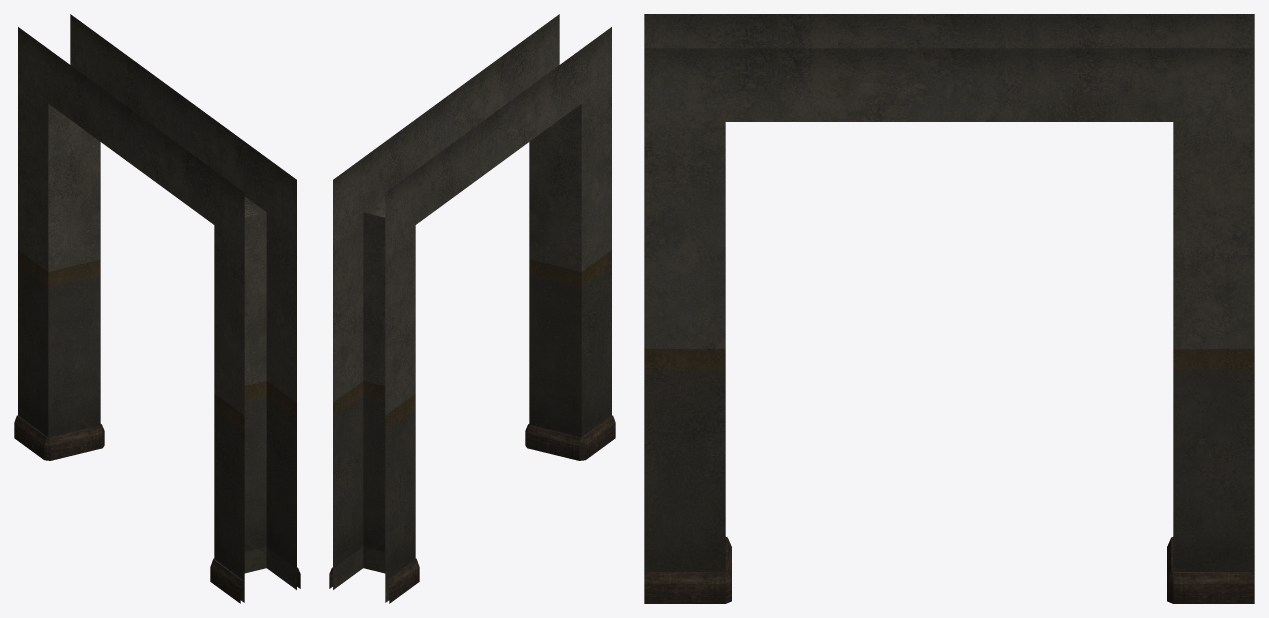
The model's file is arc_1_wall_1.obj.
3 views of the same model, side by side, from view 1: azimuth 30°, elevation 25°; view 2: azimuth 150°, elevation 25°; view 3: azimuth 270°, elevation 25° (orthographic). The views are drawn at different scales.
Parts seen in each view (by area): view 1: arc_1_wall_1; view 2: arc_1_wall_1; view 3: arc_1_wall_1.
Boxes of the visible parts, x1,y1,x2,y2 form: arc_1_wall_1: (14,14,300,603); arc_1_wall_1: (329,14,615,603); arc_1_wall_1: (644,14,1254,603).
Bounding box in the file's own units: 0.46 × 3 × 3.
